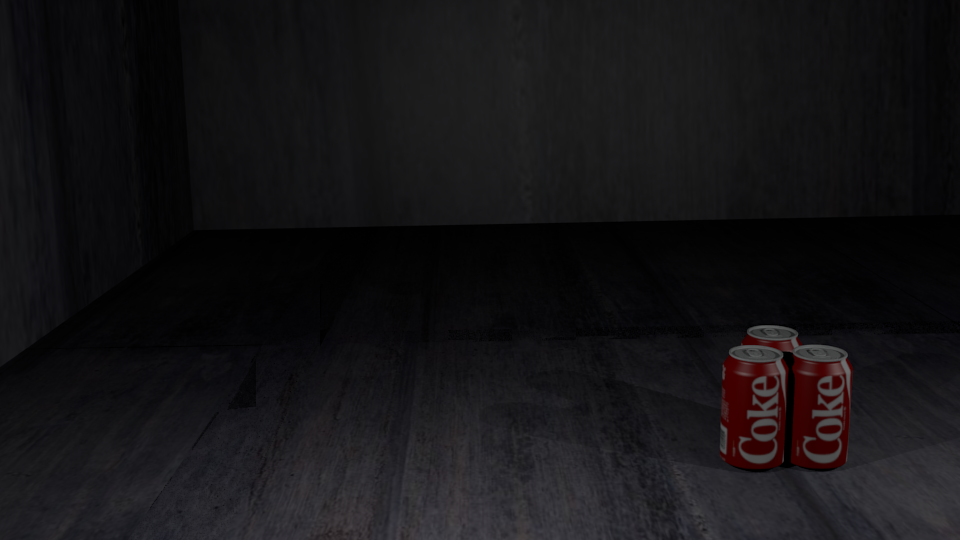cola_can: (785, 345, 852, 464), (722, 345, 787, 466), (742, 326, 802, 439)
